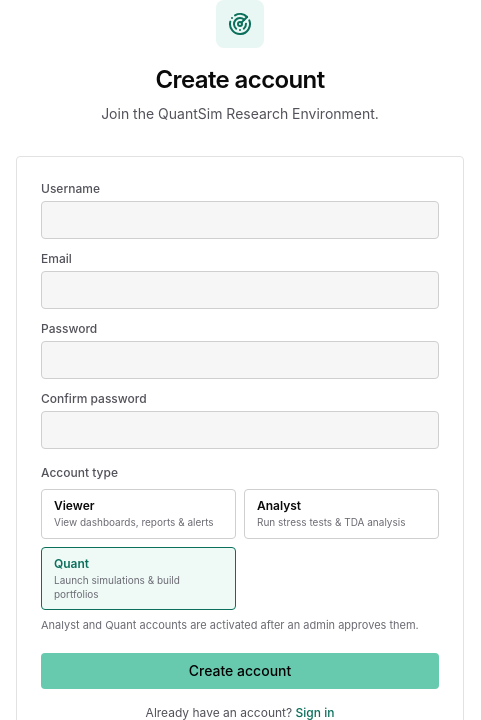
Test case: the sign-up page › creates the account and shows the check-email screen with the address
The width and height of the screenshot is (481, 720).
Type "Sara.K" into the field labelled "Username" at (240,220), box [41,201,439,239]
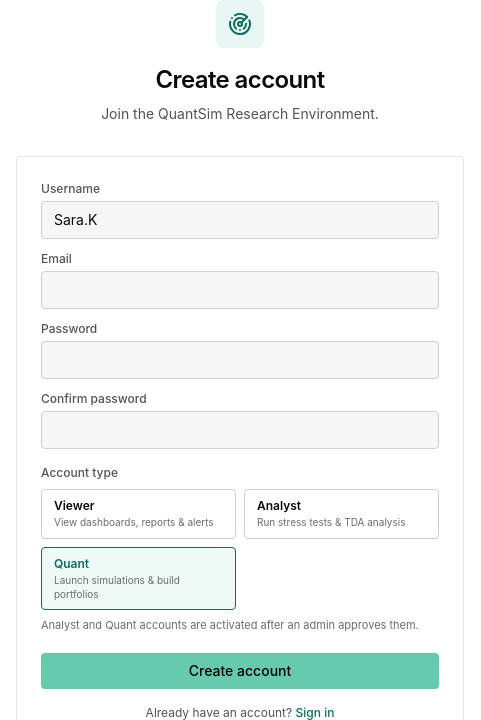
Type "sara@example.com" into the field labelled "Email" at (240,290), box [41,271,439,309]
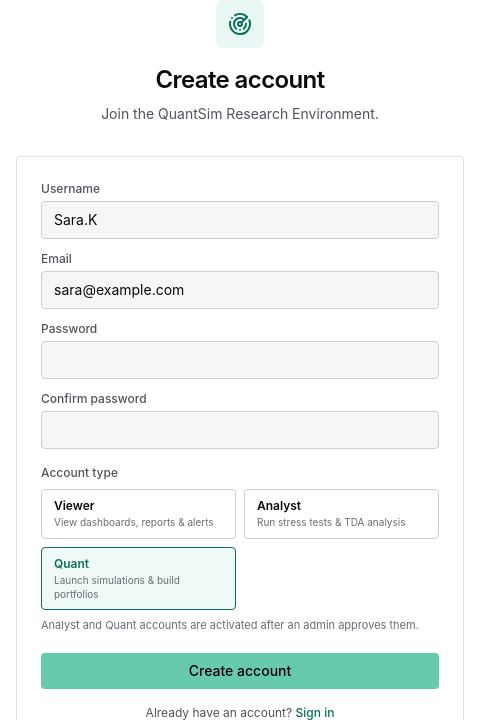
Type "a long enough password" into the password field labelled "Password" at (240,360), box [41,341,439,379]
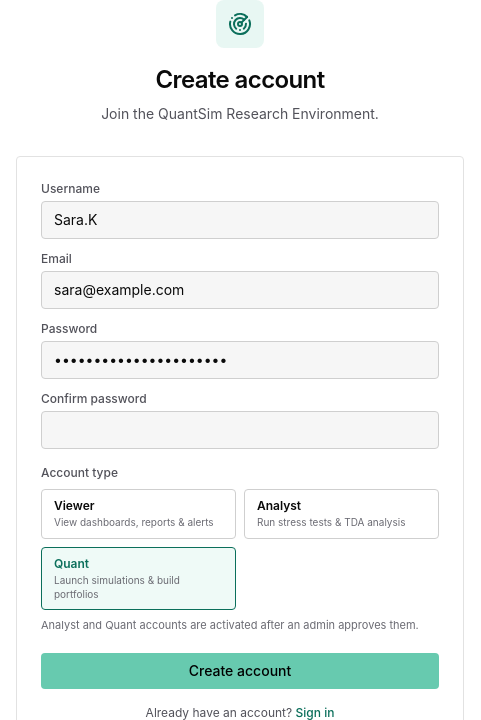
Type "a long enough password" into the password field labelled "Confirm password" at (240,430), box [41,411,439,449]
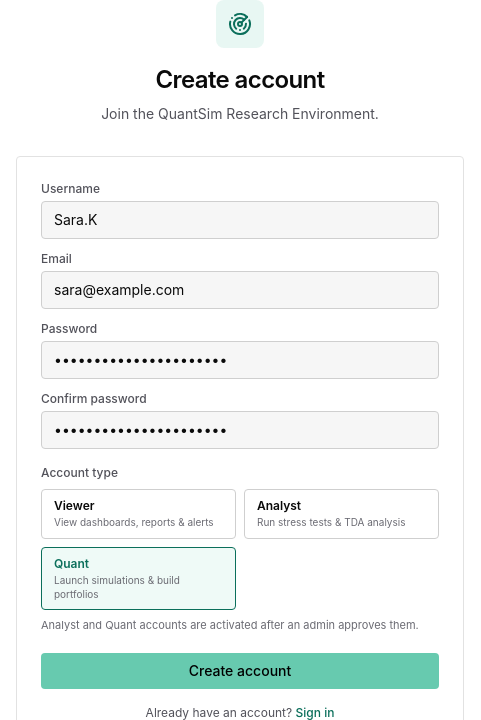
Click the radio button labelled "Analyst Run stress tests & TDA analysis" at (342,514), box [244,489,439,539]
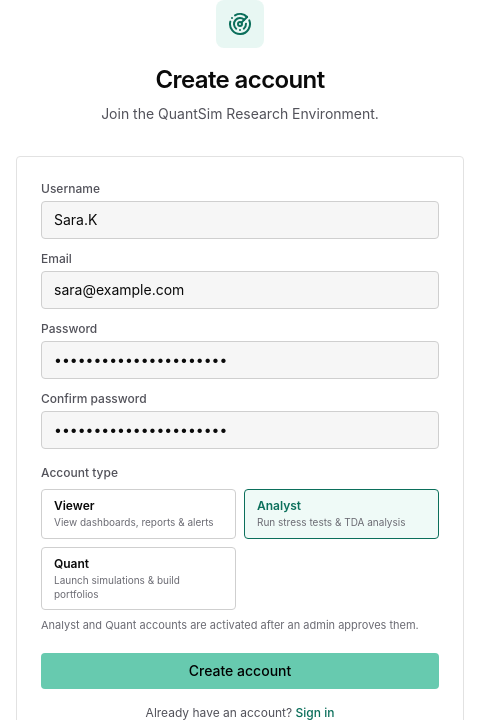
Click the button "Create account" at (240,671), box [41,653,439,689]
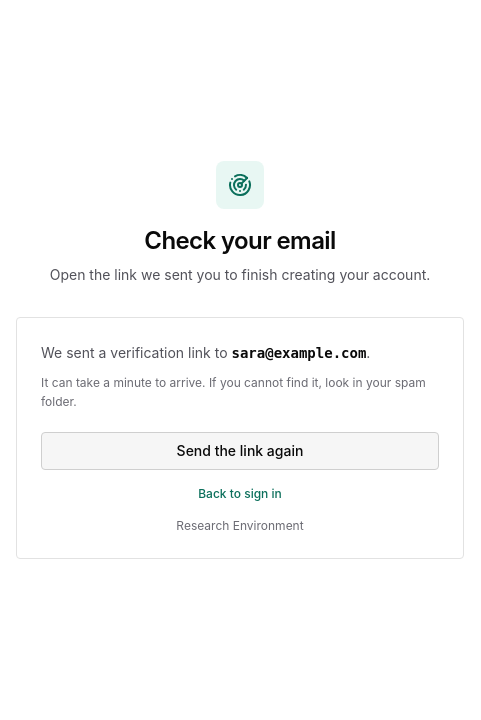
Check: the heading "Check your email" is shown, box [144,225,336,257]
Check: the text "sara@example.com" is shown, box [232,345,366,361]
Check: the button "Send the link again" is shown, box [41,432,439,470]
